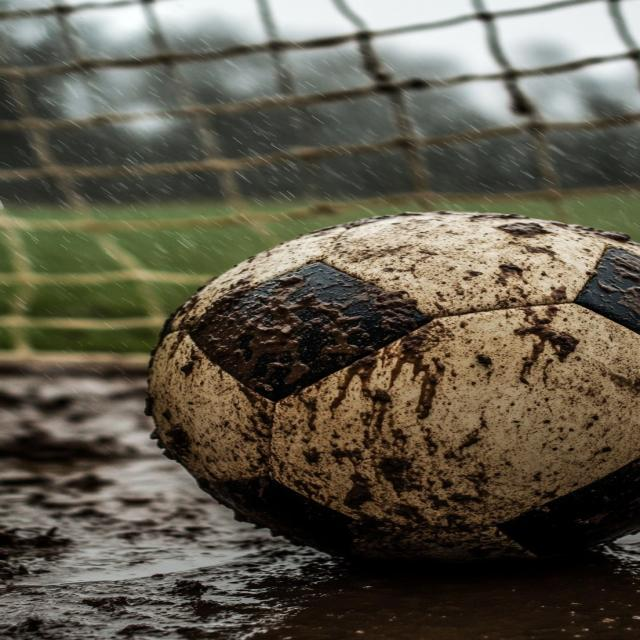Ball: (146, 212, 639, 560)
